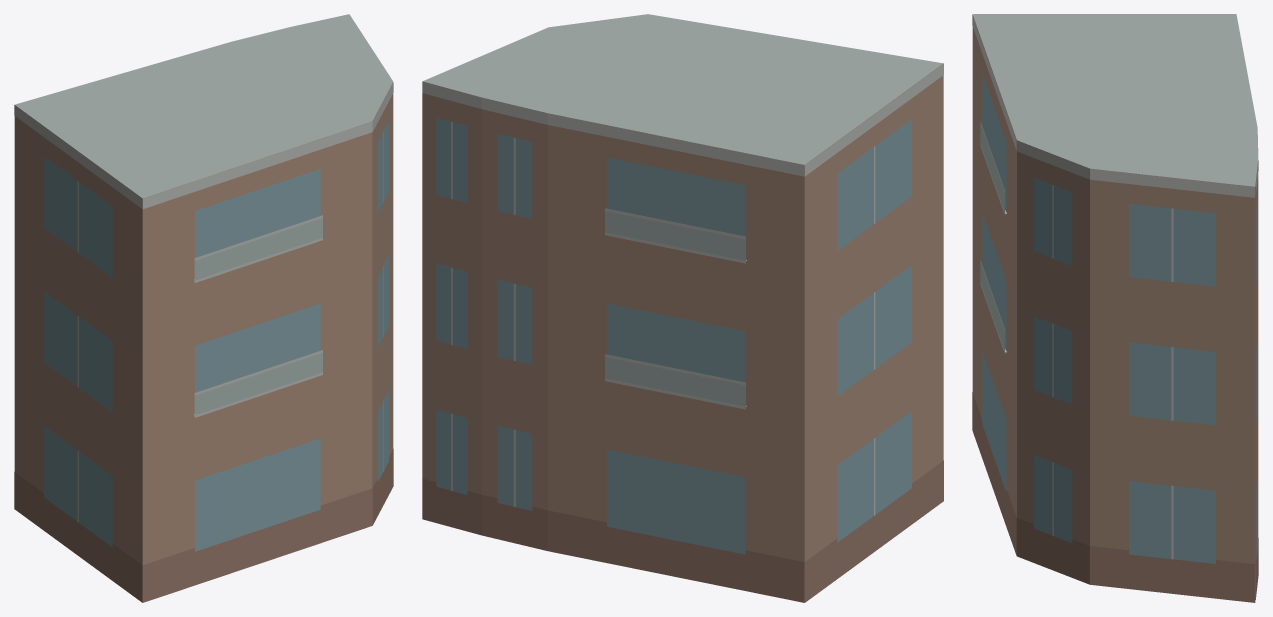
Rendered from survey-upis-32467500.glb.
The picture shows the model from 3 angles, left to right: view 1: azimuth 30°, elevation 25°; view 2: azimuth 150°, elevation 25°; view 3: azimuth 270°, elevation 25°; orthographic projection. The views are drawn at different scales.
Parts seen in each view (by area): view 1: survey-upis-32467500.tmp; view 2: survey-upis-32467500.tmp; view 3: survey-upis-32467500.tmp.
Part boxes in pixels (x1,y1,x2,y2): survey-upis-32467500.tmp: (14, 14, 393, 602); survey-upis-32467500.tmp: (422, 14, 943, 602); survey-upis-32467500.tmp: (972, 14, 1258, 602).
Size of the model in its own units: 8.16 by 9.15 by 5.71.
